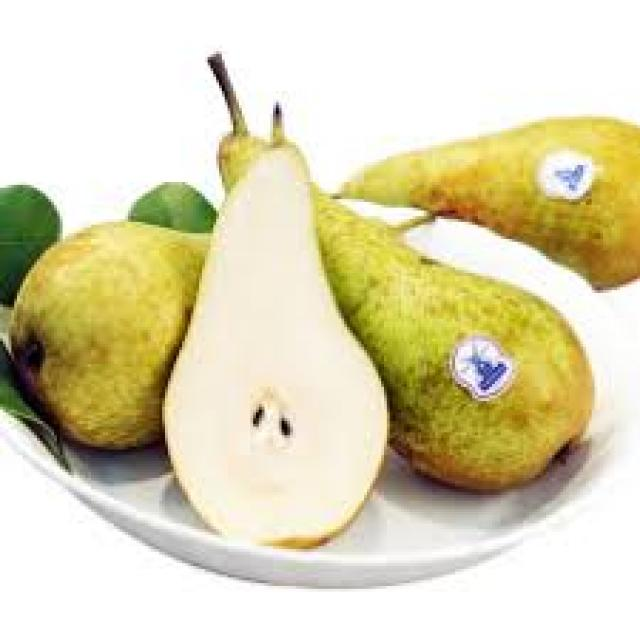organic waste: (159, 103, 384, 546), (296, 170, 589, 480), (6, 216, 244, 452), (327, 114, 637, 287), (202, 48, 267, 194), (0, 182, 60, 302), (125, 179, 213, 253)
